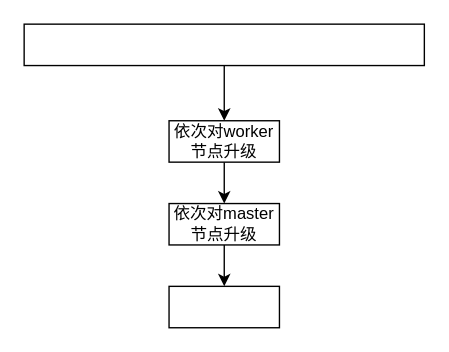
This 449x352 diagram has some shape labels left out. Here are the shapes that lost their labels. From the top down, the centre of each, then its label:
the point at 223,44: 修改bc.spce.clusterConfig.cluster.kubernetesVersion
the point at 223,306: 集群健康检查
